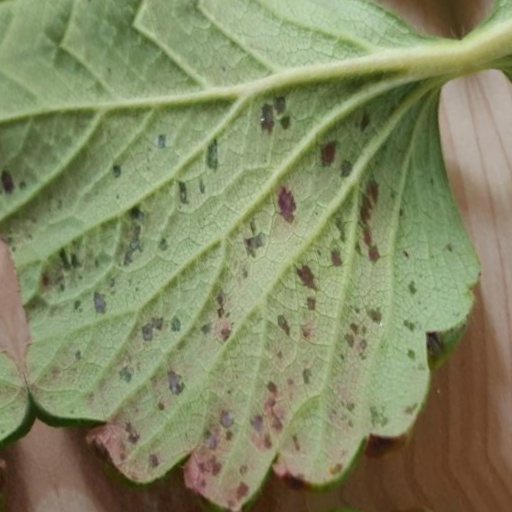Angular Leafspot: (0, 62, 469, 506)
